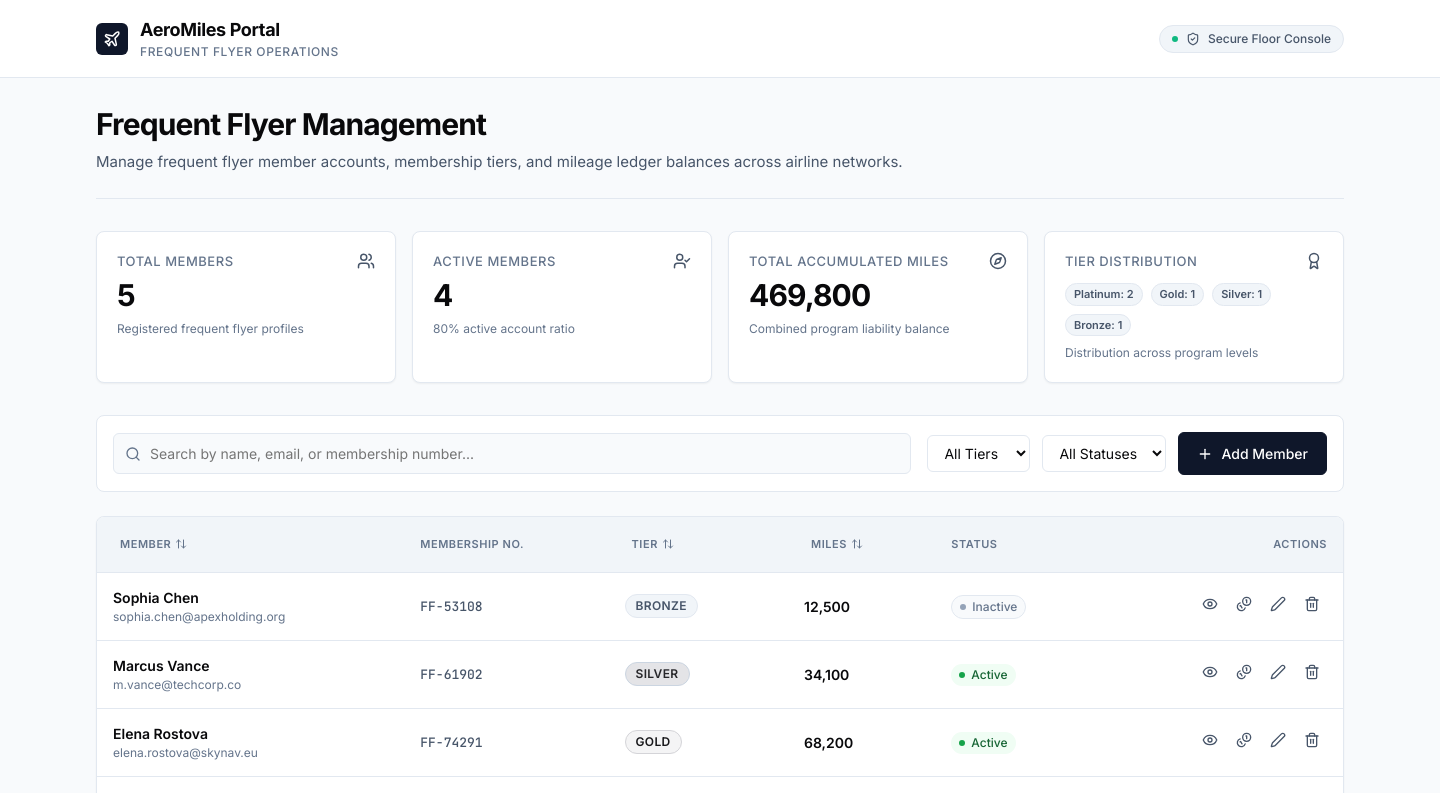
Test: Unhappy-Path Tests (TRD Section 9) › 3. Empty required fields are rejected with field-specific validation errors
This screenshot has width=1440, height=793.
Click the button "Add Member".
click(1253, 454)  # box left=1178, top=432, right=1327, bottom=475
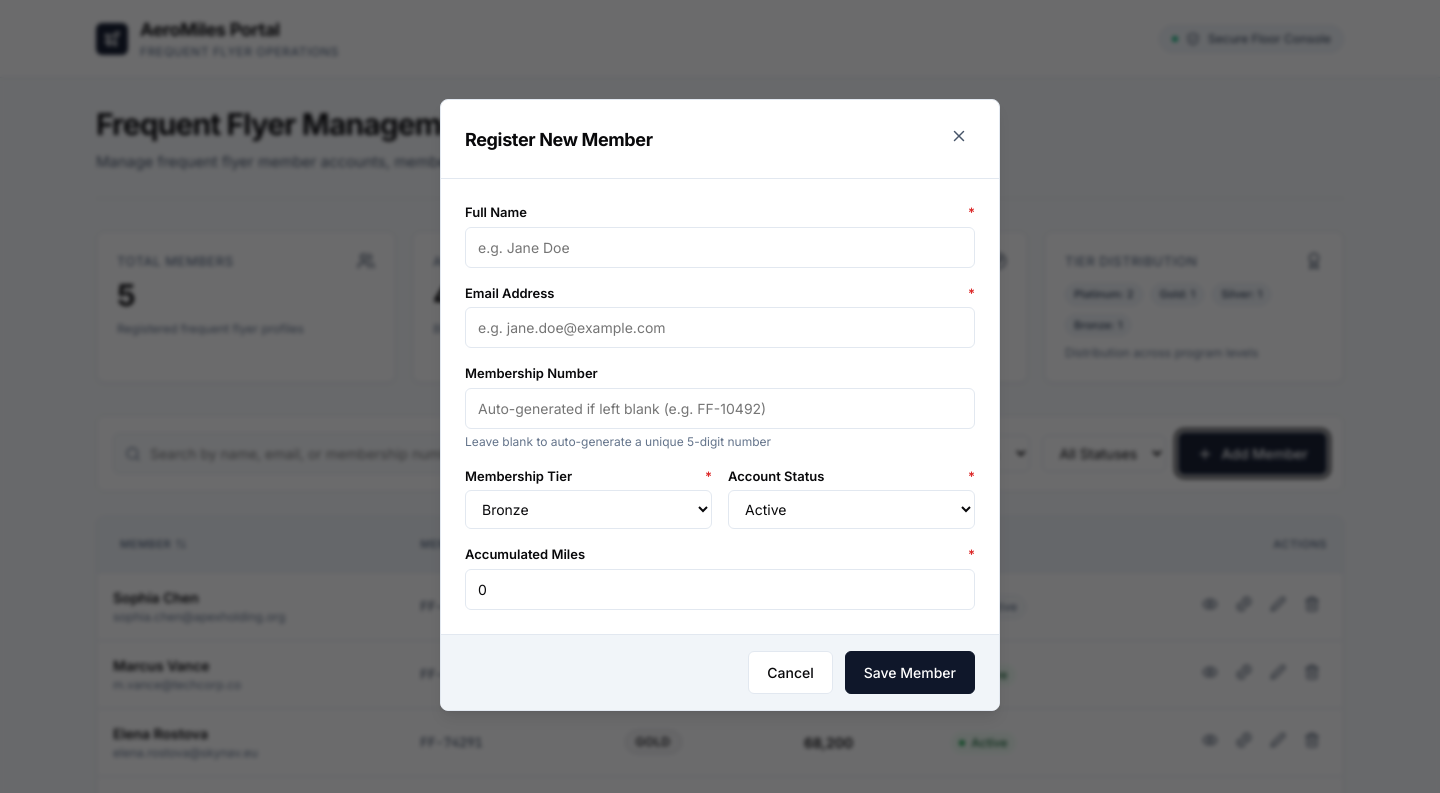
Clear required fields
Clear the field labelled "Full Name *" at (720, 247), box left=465, top=227, right=975, bottom=268
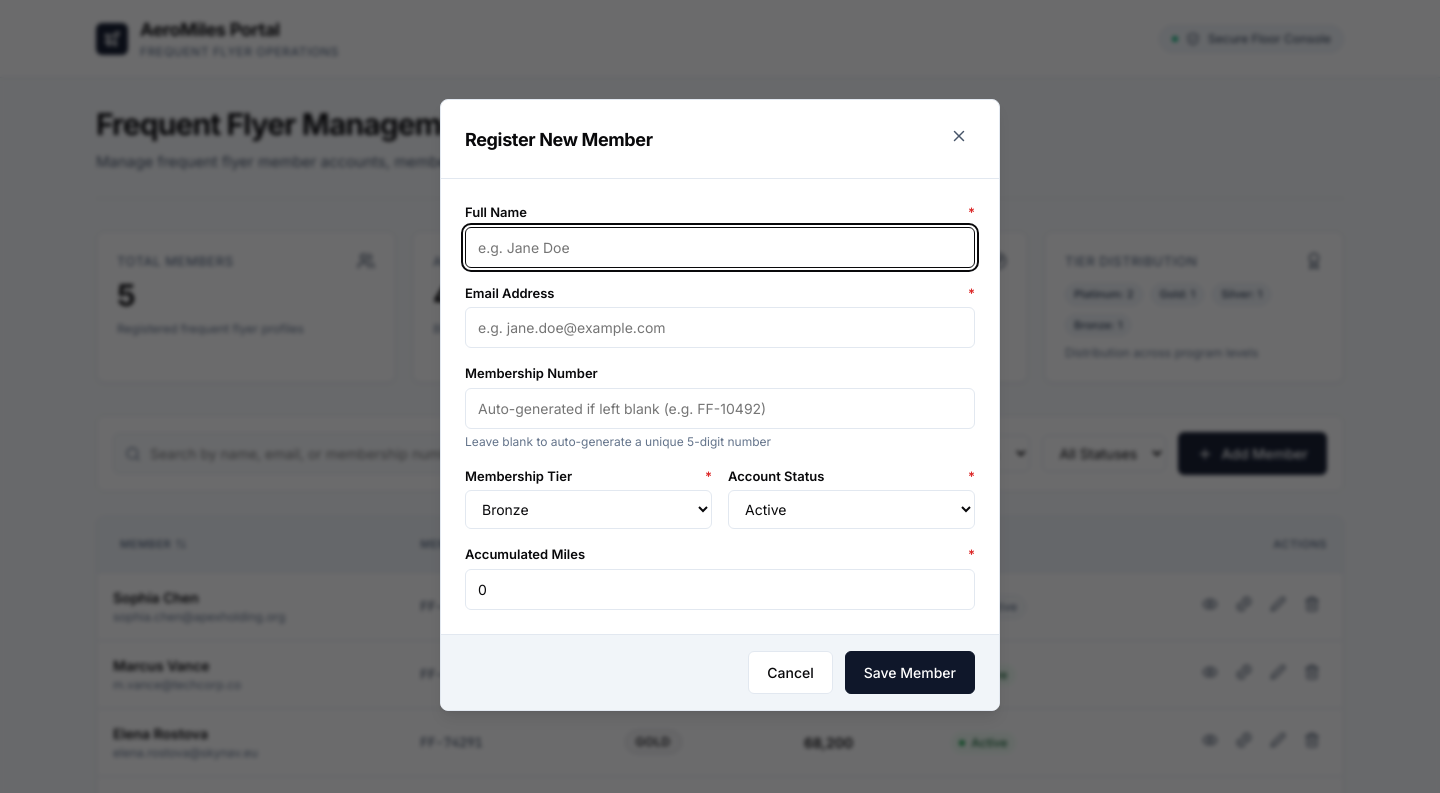
Click the button "Save Member".
click(910, 672)  # box left=845, top=651, right=975, bottom=694
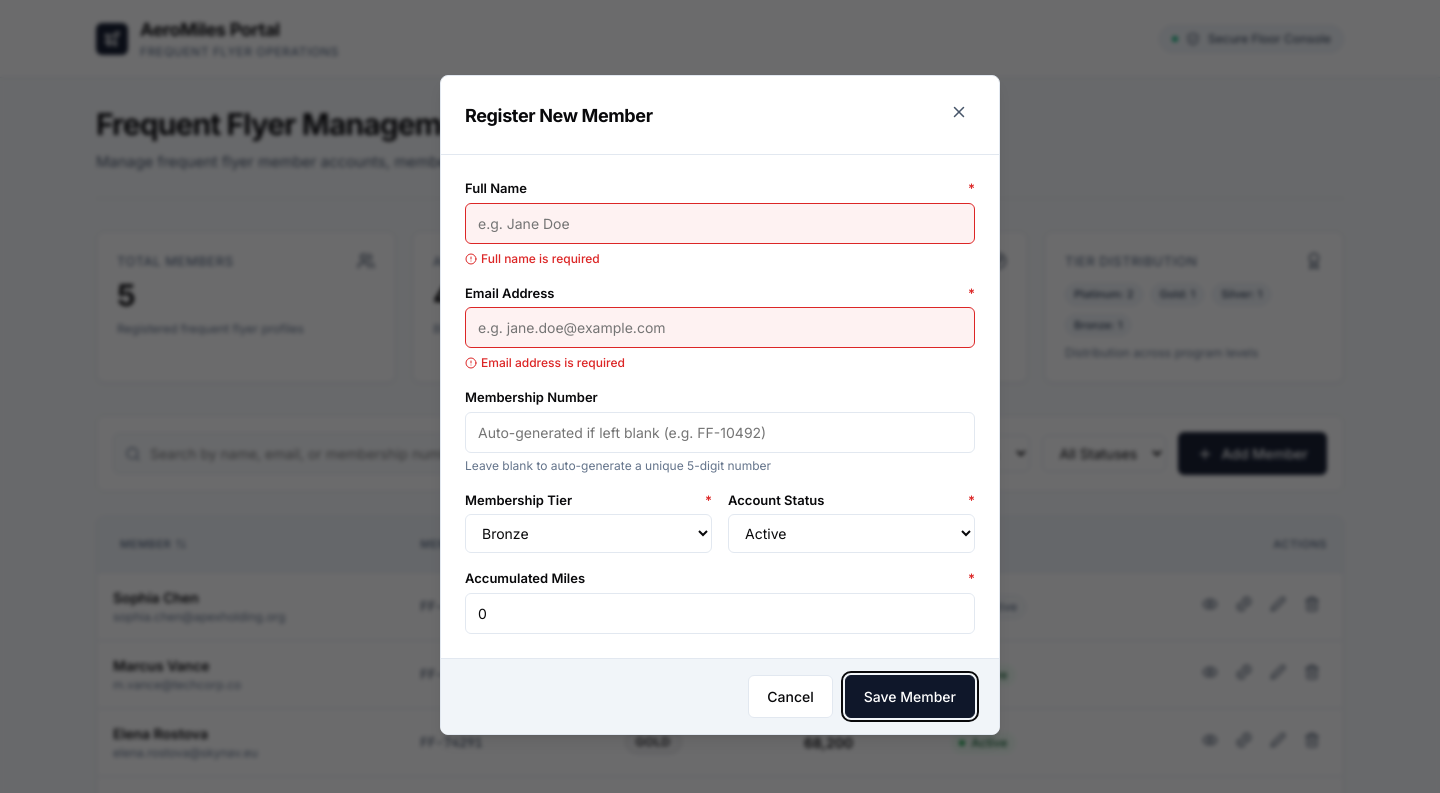
Result: the text "Full name is required" is shown at left=465, top=251, right=600, bottom=266
Result: the text "Email address is required" is shown at left=465, top=355, right=625, bottom=370
